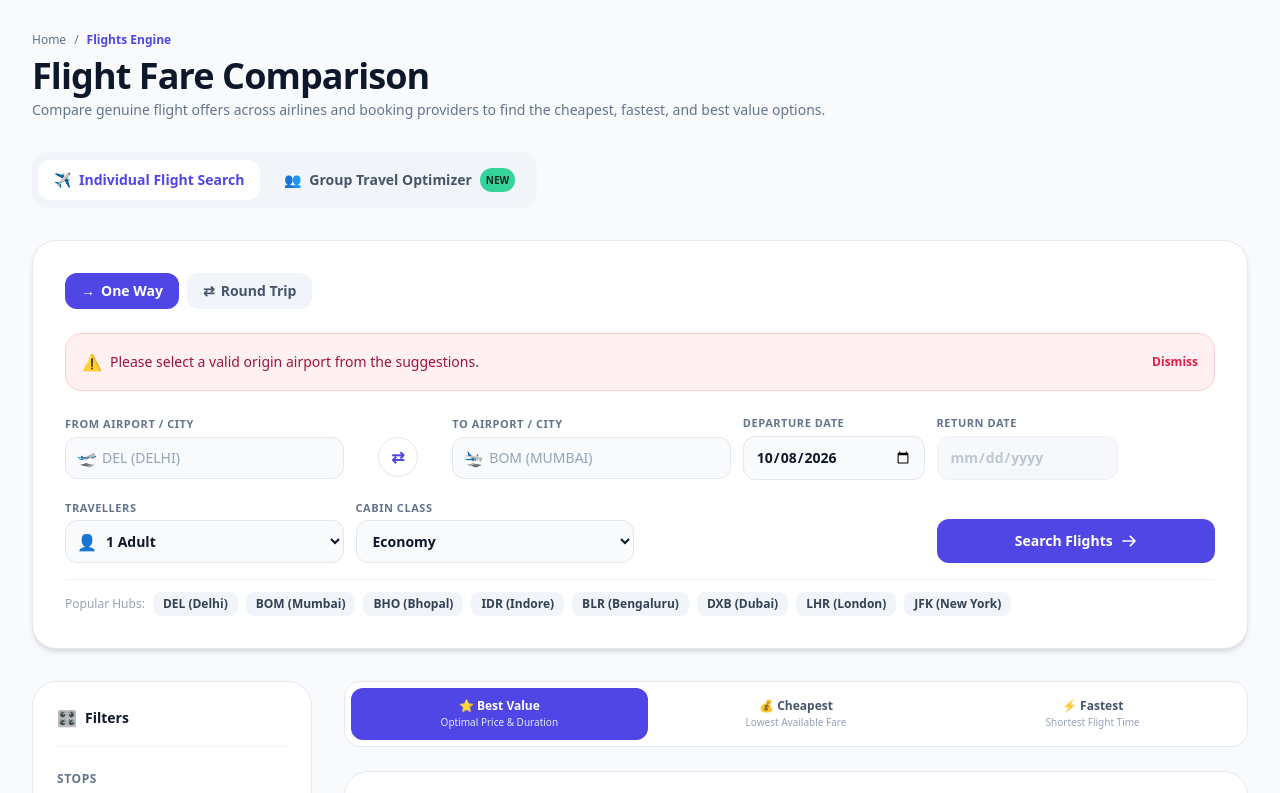
Test case: Dynamic Flight Airport/City Search & Integration › Dynamic Route Pairs & Validation › validates that origin and destination cannot be identical
# Use popular hub suggestion chips to select DEL for both origin and destination
Click the button "DEL (Delhi)". click: (195, 604)
box: [153,592,238,616]
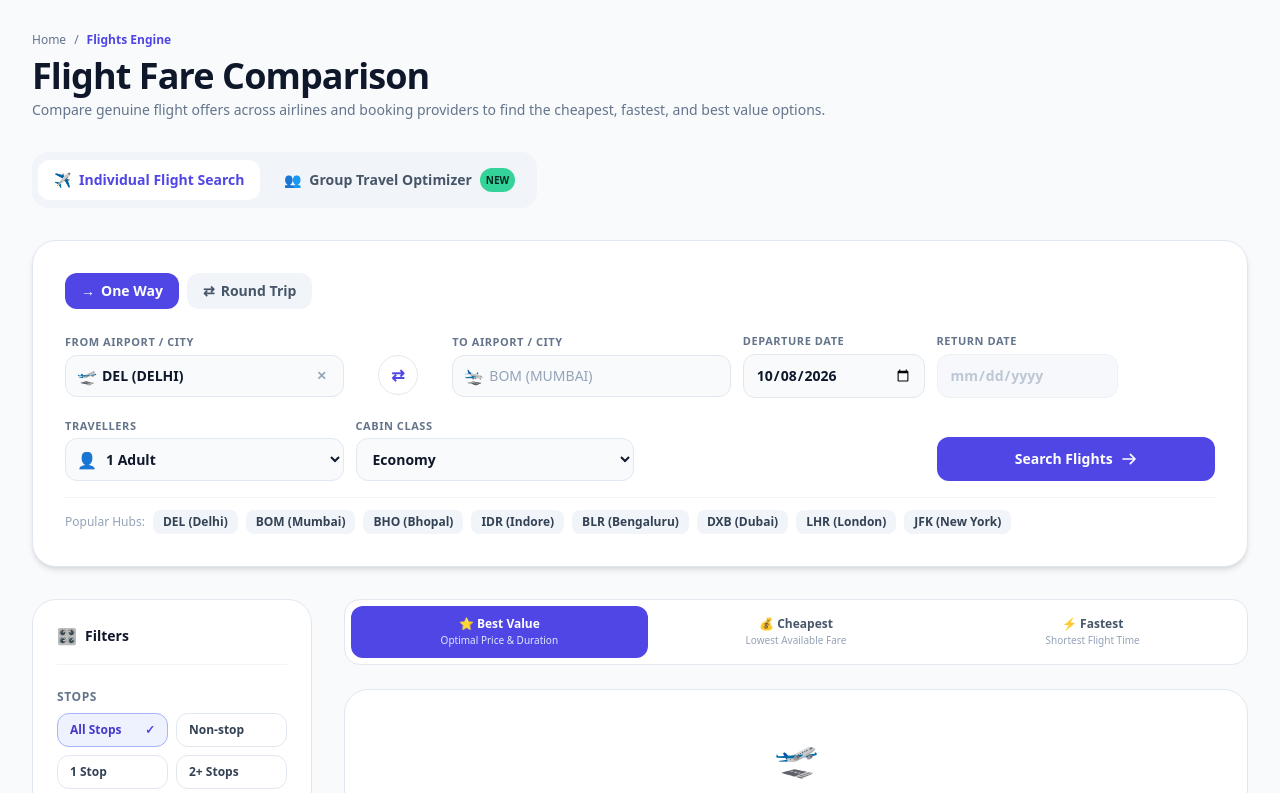
Click the button "DEL (Delhi)". click: (195, 522)
box: [153,510,238,534]
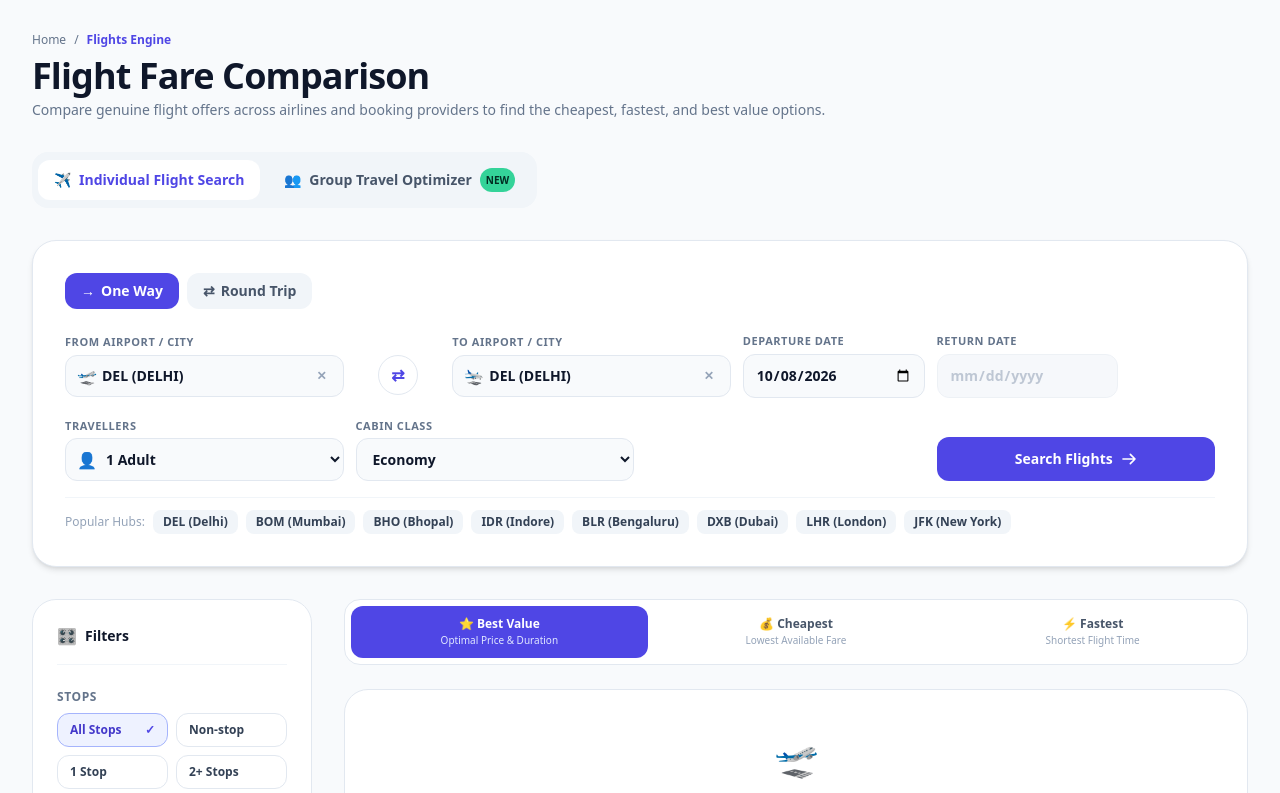
Click the button "Search Flights". click: (1076, 459)
box: [936,437,1215,481]
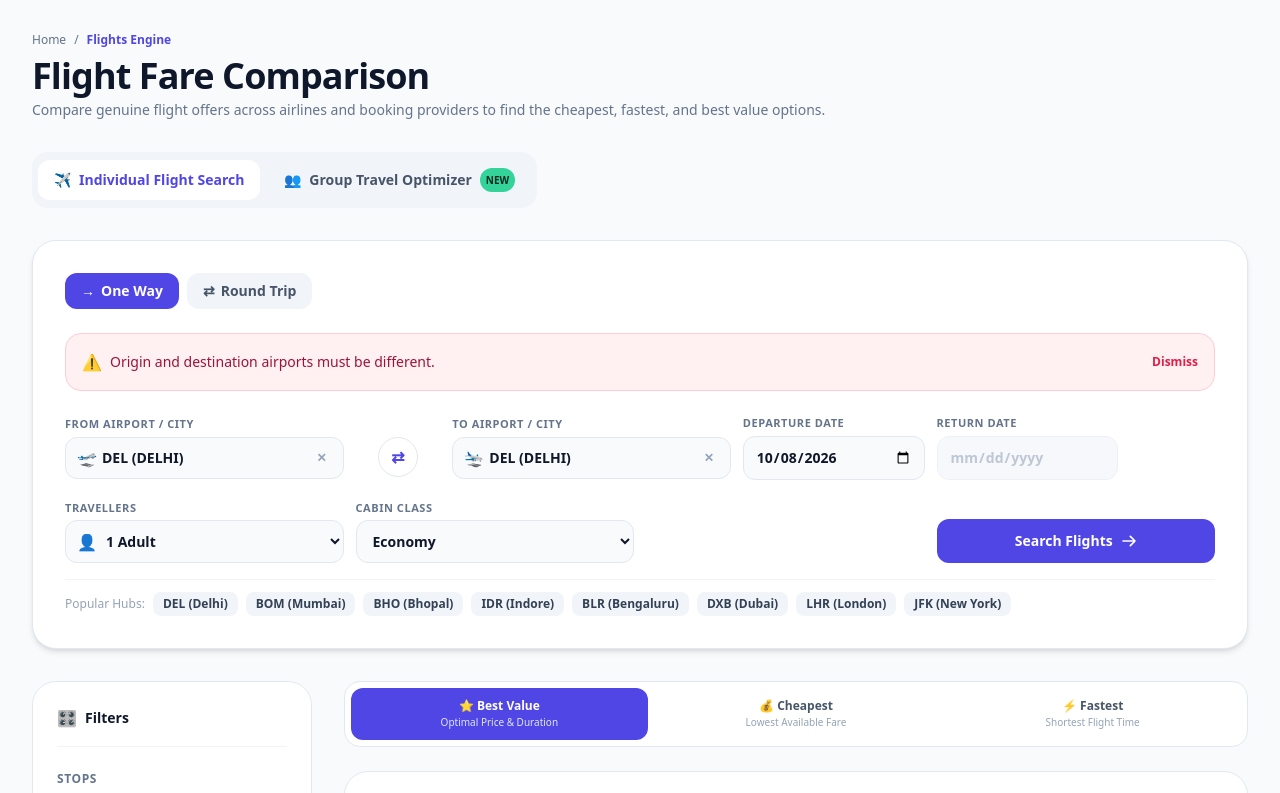
Check: the message shows "Origin and destination airports must be different", box [110,352,435,371]
